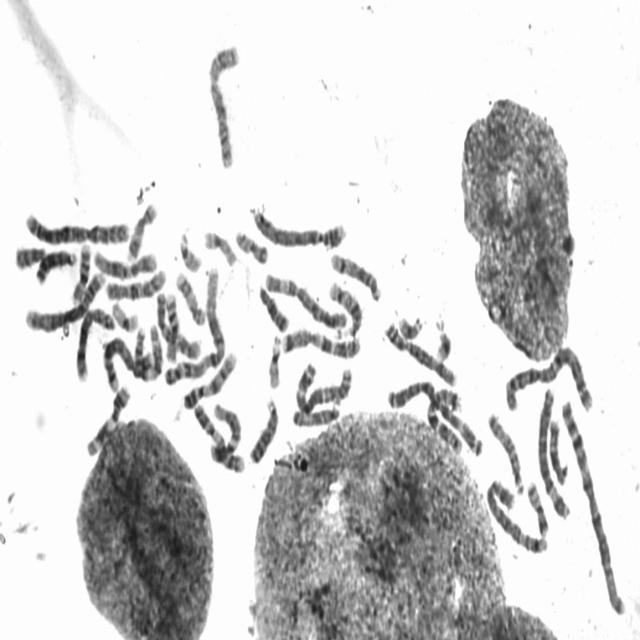A1: (558, 391, 628, 619), (161, 260, 227, 390)
A2: (501, 339, 596, 416), (21, 205, 133, 248)
A3: (383, 373, 486, 458), (292, 358, 354, 418)
B4: (22, 266, 106, 333), (248, 200, 348, 252)
B5: (484, 473, 550, 555), (101, 328, 158, 394)
C10: (154, 286, 204, 362), (104, 263, 168, 303)
C11: (84, 380, 132, 459), (132, 318, 164, 382)
C12: (92, 244, 160, 280), (208, 398, 244, 465)
C6: (261, 266, 349, 331), (535, 382, 572, 524)
C7: (424, 382, 466, 458), (280, 324, 362, 362)
C8: (383, 316, 458, 388), (72, 301, 117, 385)
C9: (191, 397, 246, 474), (181, 344, 238, 411)
D13: (246, 393, 280, 466), (33, 243, 79, 286)
D14: (328, 247, 382, 303), (326, 277, 363, 339)
D15: (485, 406, 526, 496), (290, 397, 342, 428)
E16: (70, 238, 93, 304), (163, 287, 181, 363)
E17: (125, 197, 158, 263), (173, 265, 207, 327)
E18: (256, 280, 291, 334), (546, 412, 568, 488)
F19: (201, 224, 239, 268), (110, 296, 140, 334)
F20: (524, 475, 550, 537), (233, 224, 269, 266)
G21: (395, 309, 424, 342), (434, 324, 454, 364)
G22: (177, 226, 203, 274), (266, 330, 283, 390)
X: (205, 38, 242, 171)
